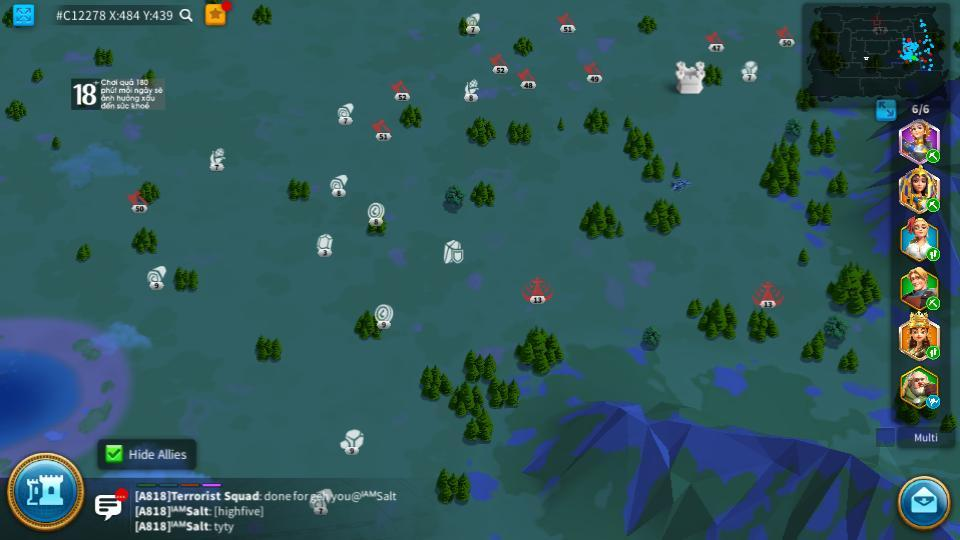gem-z-out: (314, 233, 334, 255)
march_farming: (925, 197, 941, 212), (925, 297, 942, 308)
march_idle: (925, 396, 942, 408)
march_marching: (925, 150, 942, 162), (925, 347, 941, 359)
